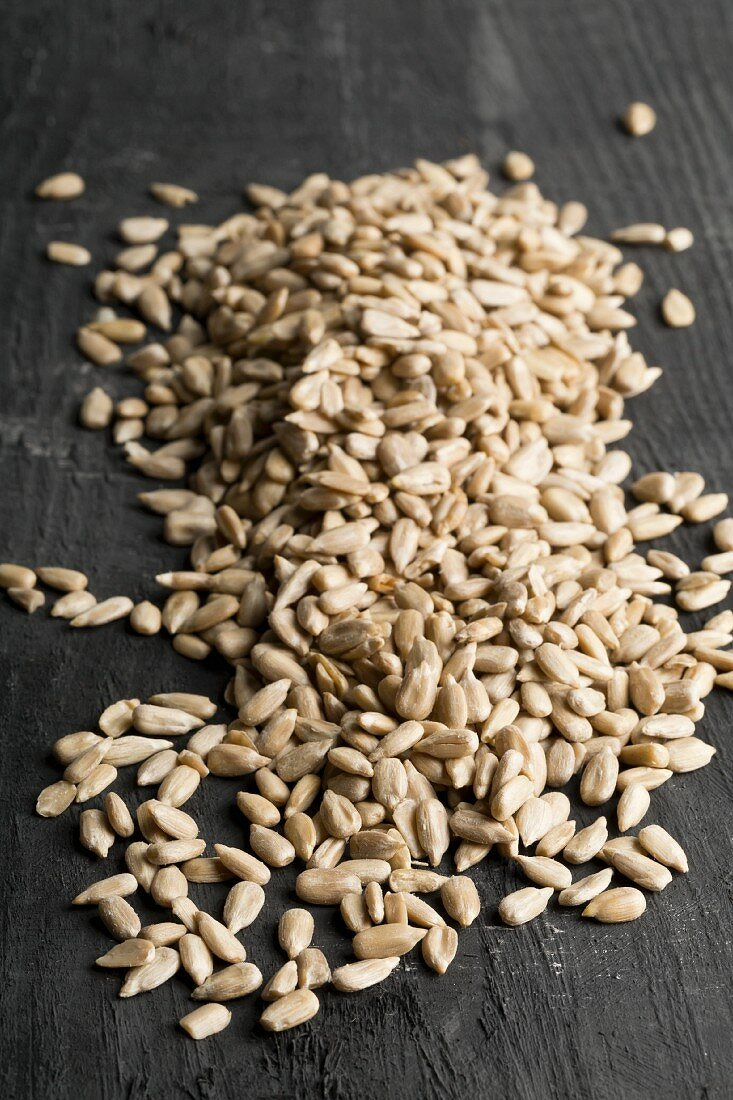seed: (12, 69, 733, 1065)
